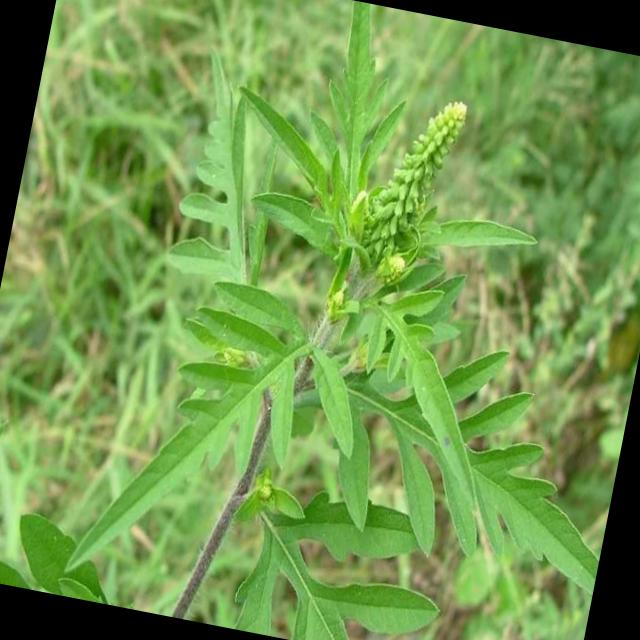ambrosia: (167, 17, 552, 505)
